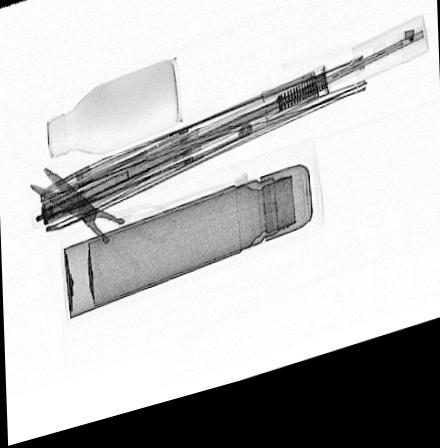Scissors: (28, 170, 177, 296)
